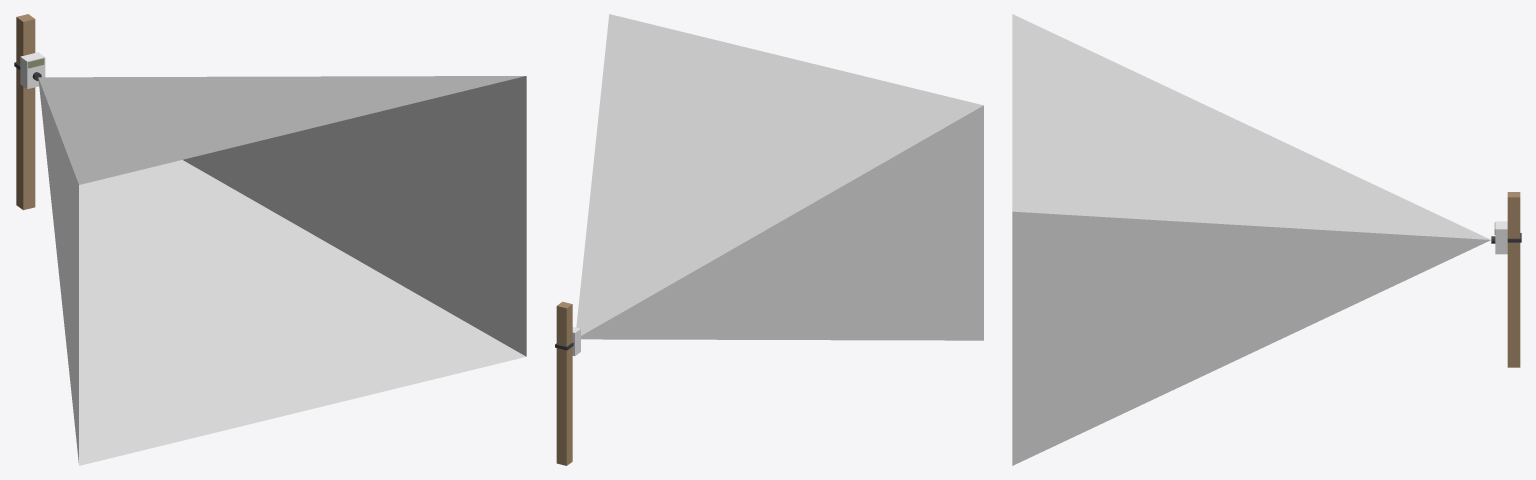
Rendered from trail-camera-post.glb.
3 views of the same model, side by side, from view 1: azimuth 30°, elevation 25°; view 2: azimuth 150°, elevation 25°; view 3: azimuth 270°, elevation 25° (orthographic). The views are drawn at different scales.
Parts seen in each view (by area): view 1: trail-camera-post; view 2: trail-camera-post; view 3: trail-camera-post.
Part boxes in pixels (x1,y1,x2,y2): trail-camera-post: (14, 14, 526, 465); trail-camera-post: (555, 14, 983, 465); trail-camera-post: (1012, 14, 1521, 465).
Size of the model in its own units: 3.73 by 2.24 by 4.06.
